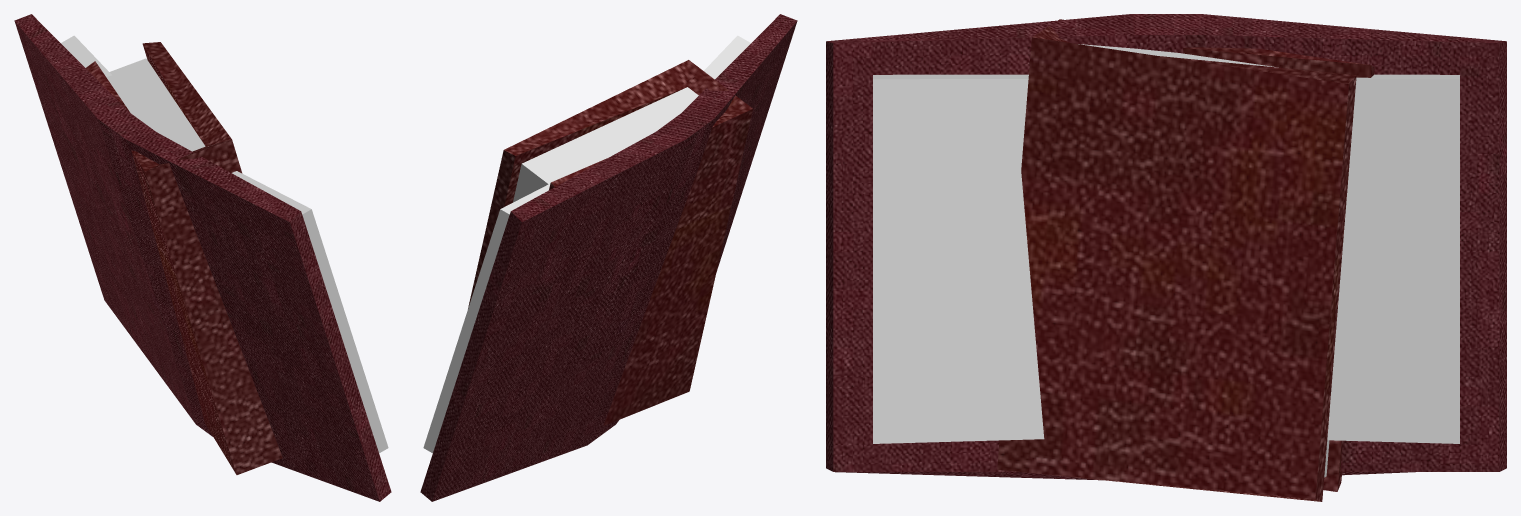
Rendered from book.gltf.
The picture shows the model from 3 angles, left to right: view 1: azimuth 30°, elevation 25°; view 2: azimuth 150°, elevation 25°; view 3: azimuth 270°, elevation 25°; orthographic projection. The views are drawn at different scales.
Visible parts, largest first — view 1: book_open, book_closed; view 2: book_open, book_closed; view 3: book_open, book_closed.
Boxes of the visible parts, x1,y1,x2,y2 form: book_open: [14, 14, 391, 501]; book_closed: [86, 42, 282, 474]; book_open: [420, 14, 797, 501]; book_closed: [468, 60, 752, 425]; book_open: [826, 14, 1506, 480]; book_closed: [997, 19, 1374, 501].
Bounding box in the file's own units: 0.573 × 0.9078 × 1.32.
3 materials, 2 textured.
